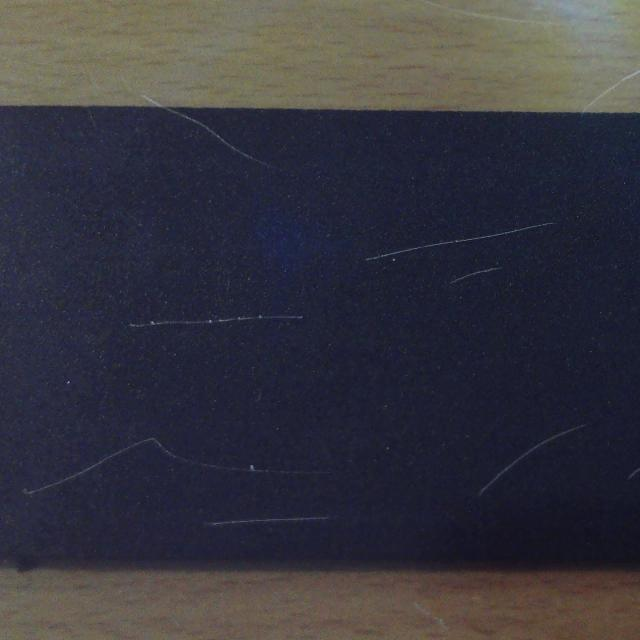defect: (13, 406, 335, 498), (479, 414, 587, 494), (367, 220, 554, 262), (163, 109, 275, 169), (123, 315, 306, 328), (202, 511, 334, 525), (451, 266, 504, 285), (630, 463, 640, 479)
